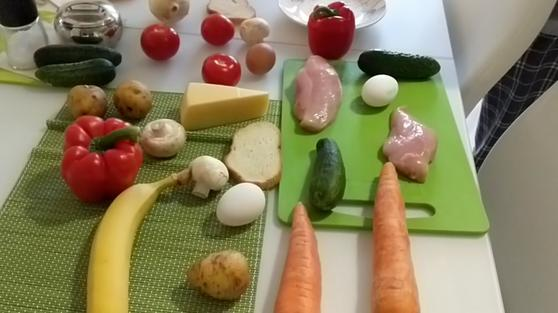banana: (89, 169, 198, 313)
carrot: (365, 159, 423, 313), (275, 198, 327, 313)
champignon: (186, 151, 231, 199), (140, 115, 189, 159), (238, 13, 271, 42)
cheese: (185, 76, 270, 128)
chicken_fillet: (284, 48, 345, 131), (382, 102, 439, 180)
cucumber: (359, 42, 446, 85), (310, 137, 350, 213), (35, 41, 128, 67), (35, 55, 111, 84)
egg: (218, 180, 271, 227), (360, 73, 402, 109), (246, 40, 278, 73)
onion: (152, 1, 190, 23)
pepper: (60, 112, 139, 202), (309, 2, 359, 60)
potato: (193, 247, 252, 303), (59, 80, 109, 117), (114, 74, 157, 115)
tomato: (140, 23, 179, 63), (202, 52, 245, 88), (203, 12, 236, 47)
white_bread: (229, 119, 284, 188)
